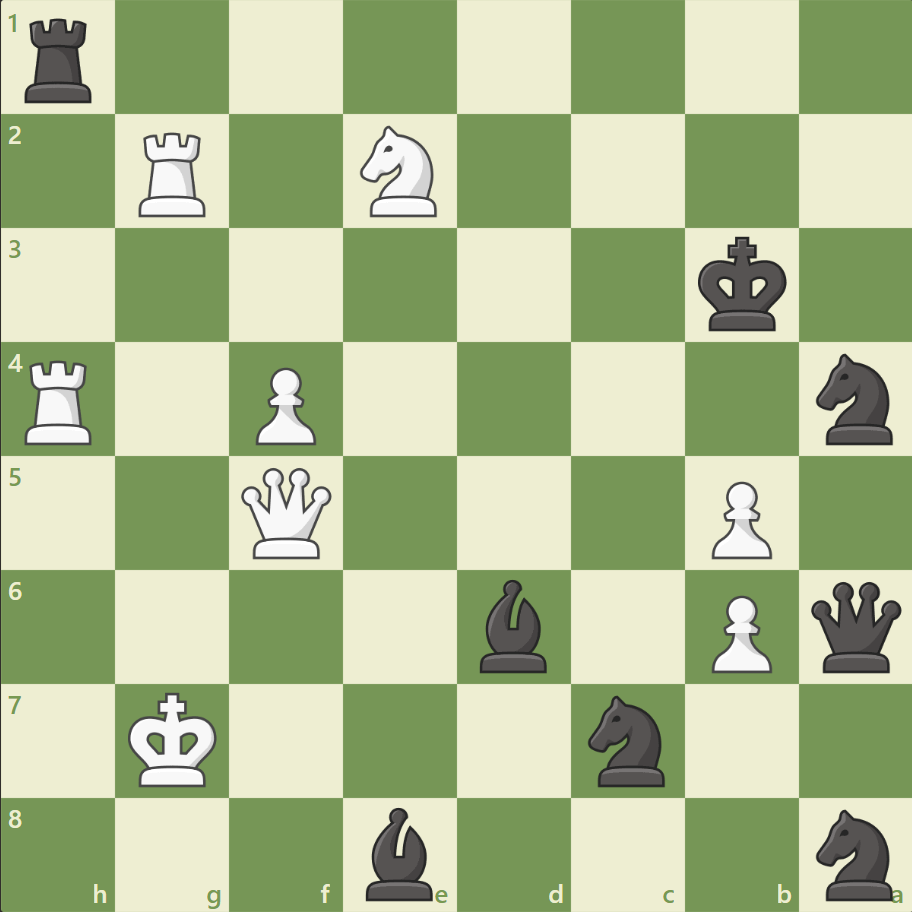K: (124, 685, 224, 793)
N: (351, 121, 449, 223)
P: (701, 586, 776, 677), (701, 473, 776, 564), (247, 359, 322, 450)
Q: (237, 463, 336, 562)
R: (19, 352, 102, 449), (133, 125, 215, 222)
b: (358, 801, 442, 904), (471, 574, 555, 676)
k: (692, 231, 792, 339)
n: (579, 688, 676, 791), (806, 802, 903, 904), (806, 348, 903, 450)
q: (805, 576, 904, 676)
r: (19, 12, 102, 109)
